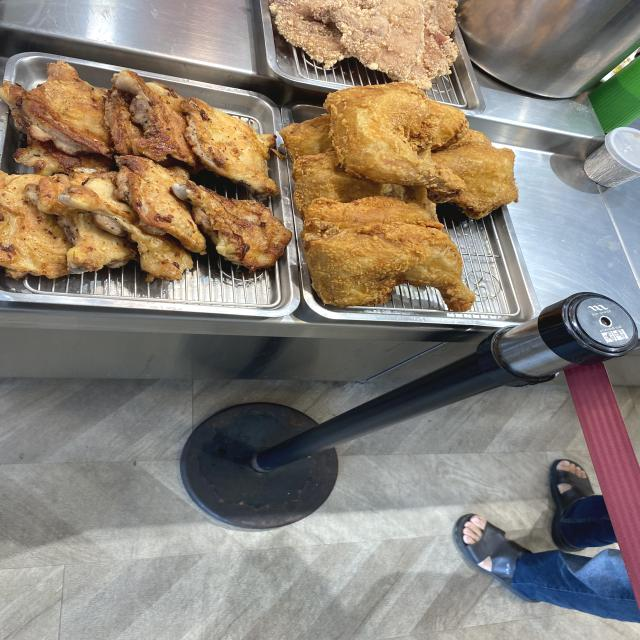Chicken Leg Steak: (18, 116, 221, 239)
